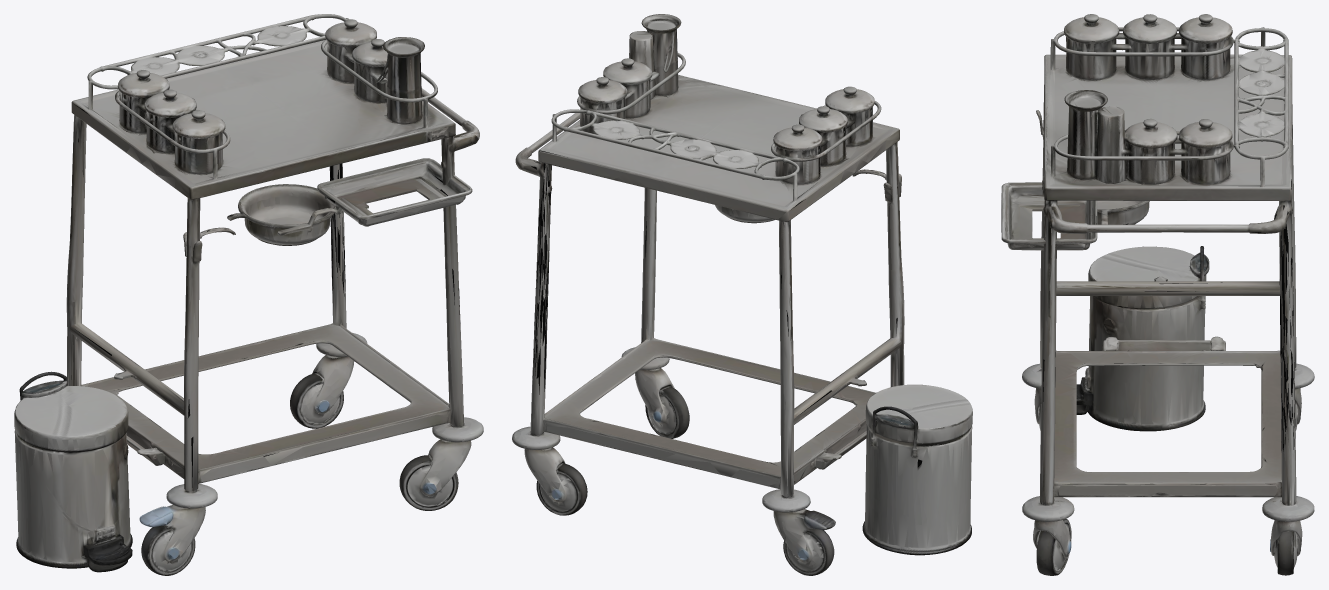
Rendered from cart.fbx.
3 views of the same model, side by side, from view 1: azimuth 30°, elevation 25°; view 2: azimuth 150°, elevation 25°; view 3: azimuth 270°, elevation 25° (orthographic). The views are drawn at different scales.
Parts seen in each view (by area): view 1: tripo_node_b7fd0e5d; view 2: tripo_node_b7fd0e5d; view 3: tripo_node_b7fd0e5d.
Part boxes in pixels (left/top/right/bottom): tripo_node_b7fd0e5d: left=14, top=14, right=483, bottom=575; tripo_node_b7fd0e5d: left=512, top=14, right=972, bottom=575; tripo_node_b7fd0e5d: left=1001, top=14, right=1314, bottom=575.
Bounding box in the file's own units: 94.74 × 59.29 × 98.02.
Materials: 1 (1 with a texture image).
